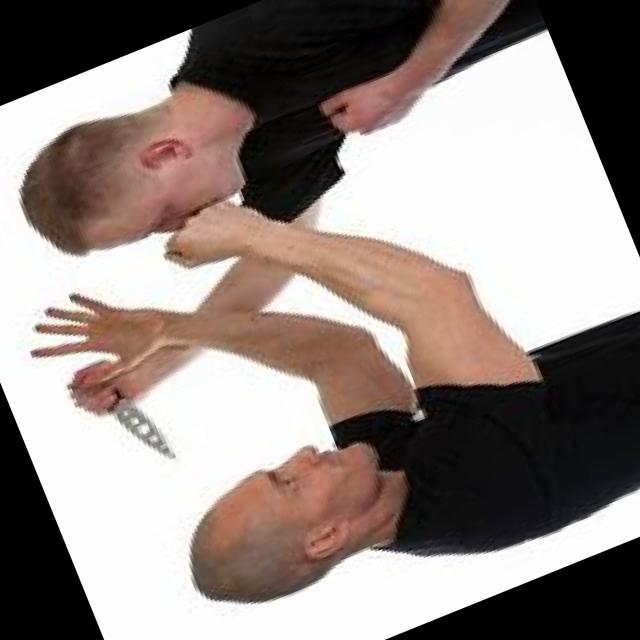knife: (73, 353, 183, 483)
